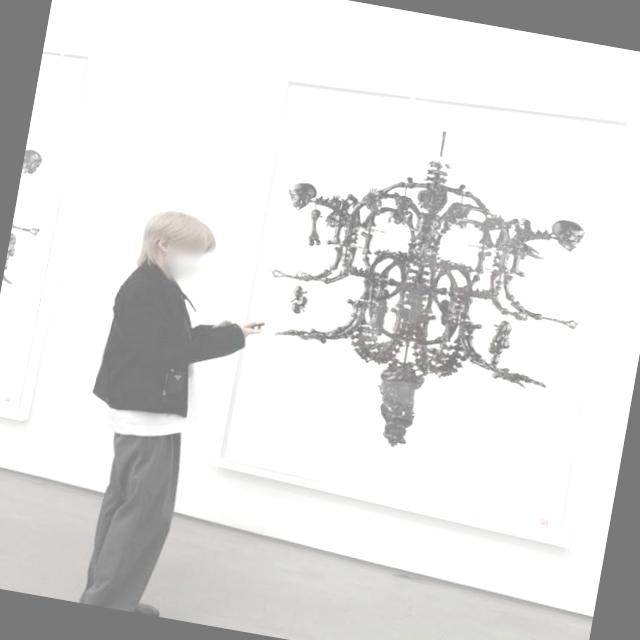jacket: (90, 258, 256, 431)
slacks: (78, 419, 188, 616)
